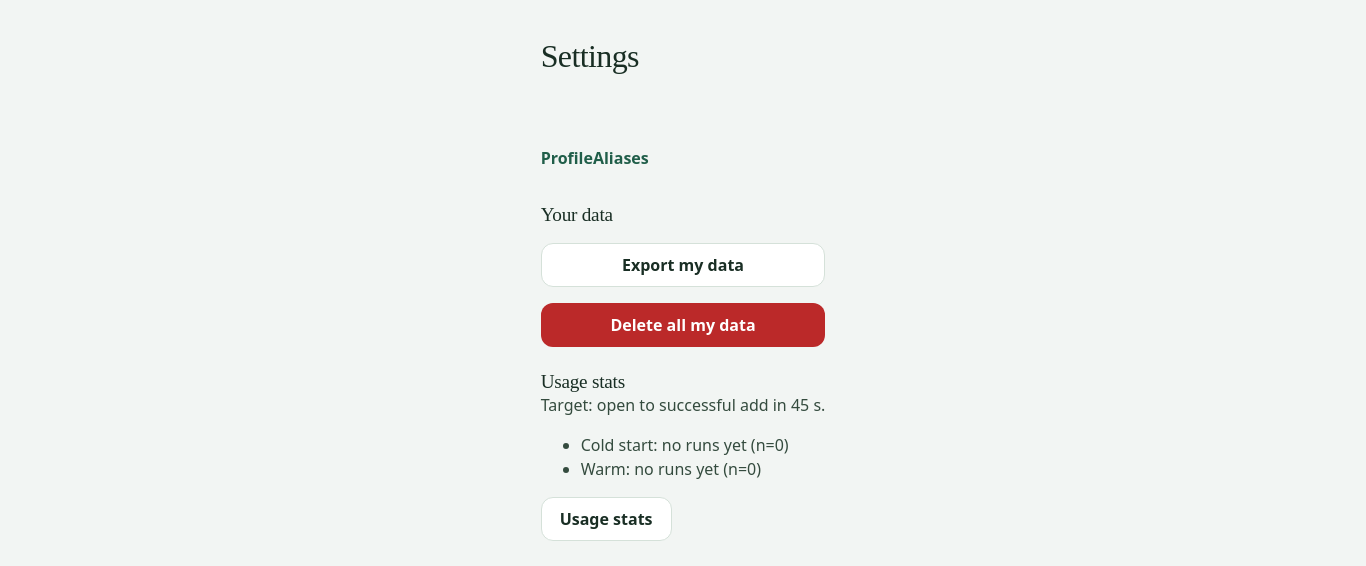
Scenario: settings page › delete_requires_typed_confirmation
The width and height of the screenshot is (1366, 566).
Click the button "Delete all my data" at (683,325), box x1=541 y1=303 x2=825 y2=347
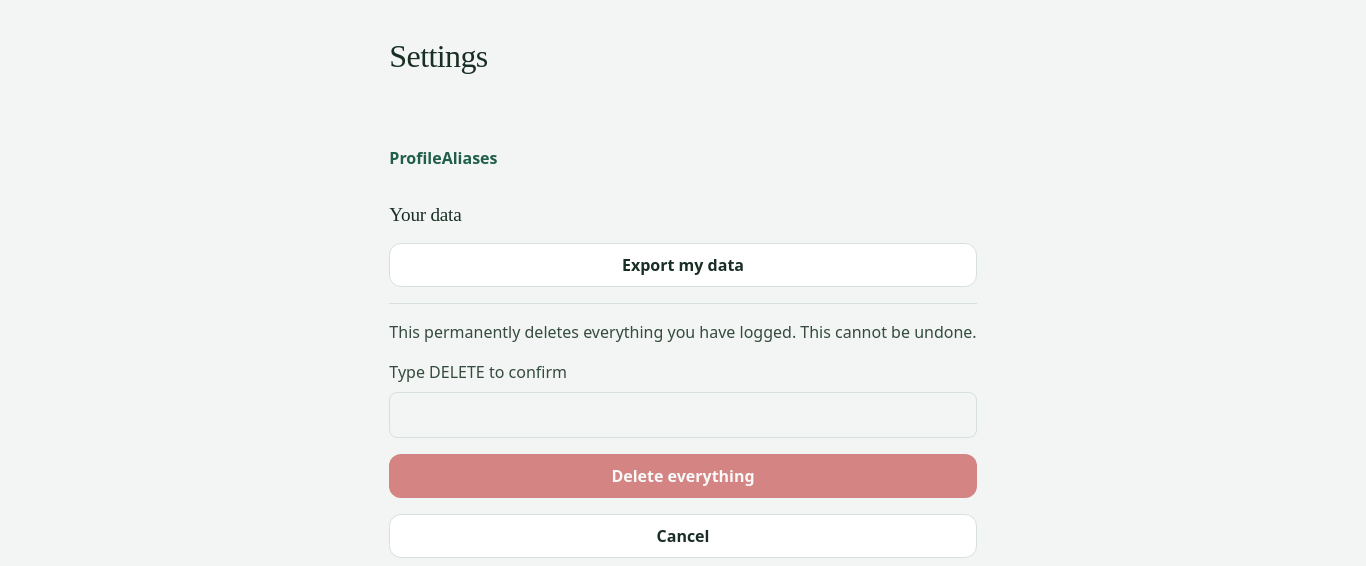
Now the button "Delete everything" is disabled, box x1=389 y1=454 x2=977 y2=498
Type "nope" into the field labelled "Type DELETE to confirm" at (683,415), box x1=389 y1=392 x2=977 y2=438
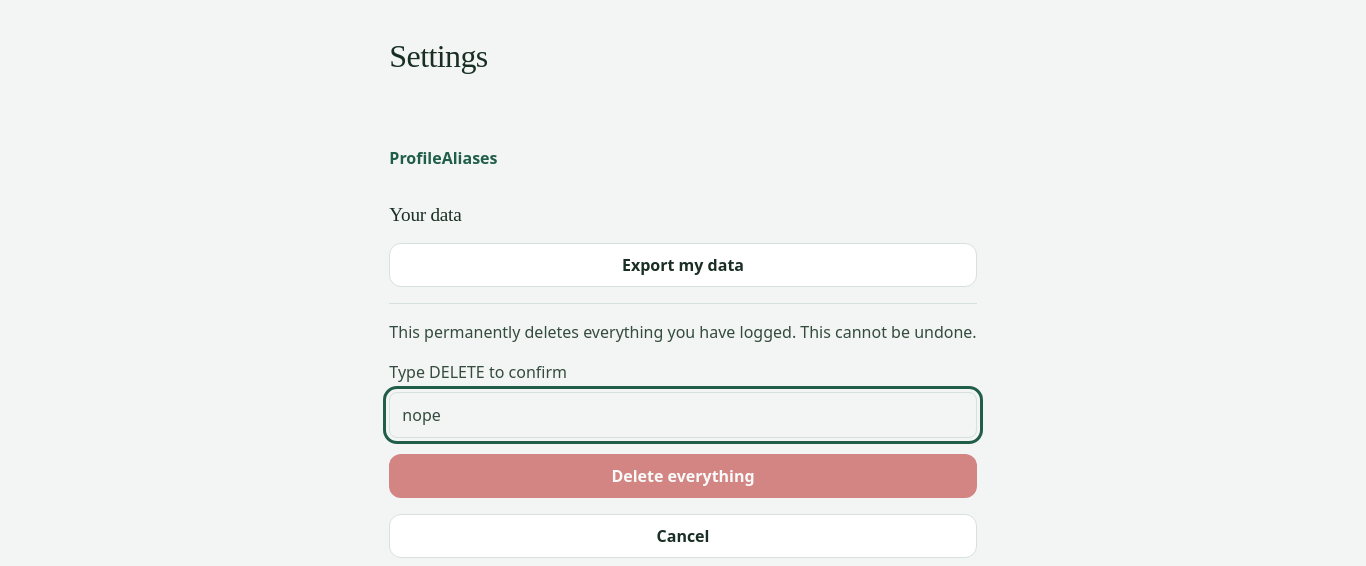
Now the button "Delete everything" is disabled, box x1=389 y1=454 x2=977 y2=498
Replace the text in the field labelled "Type DELETE to confirm" with "DELETE" at (683,415), box x1=389 y1=392 x2=977 y2=438
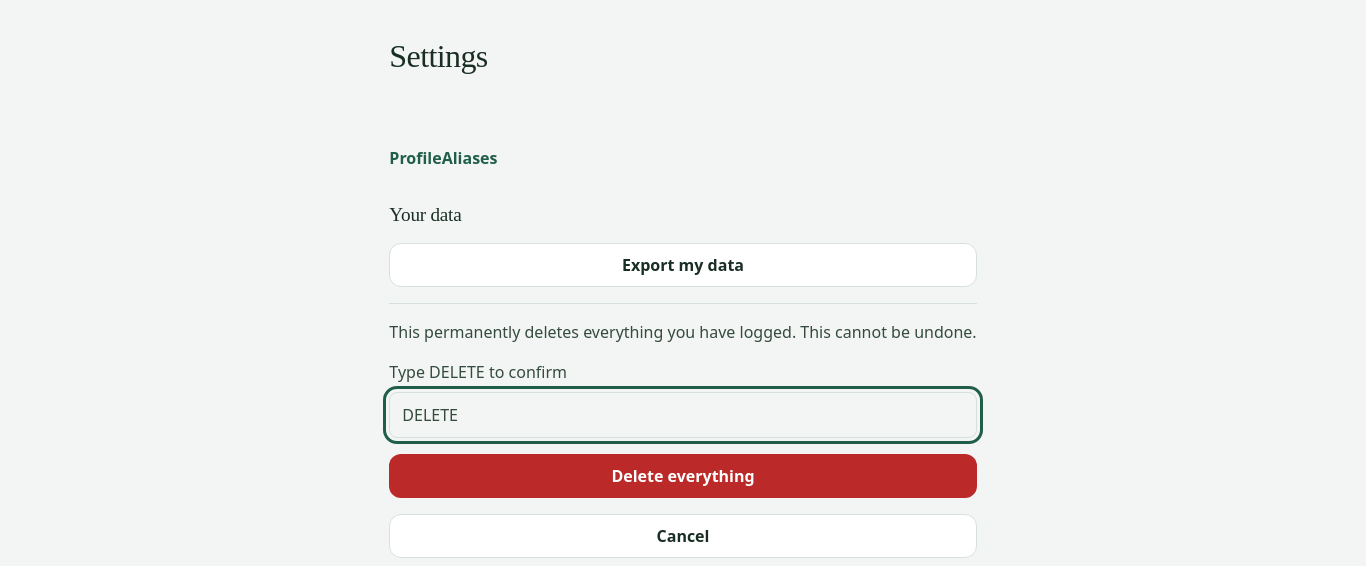
Now the button "Delete everything" is enabled
Click the button "Delete everything" at (683,476), box x1=389 y1=454 x2=977 y2=498
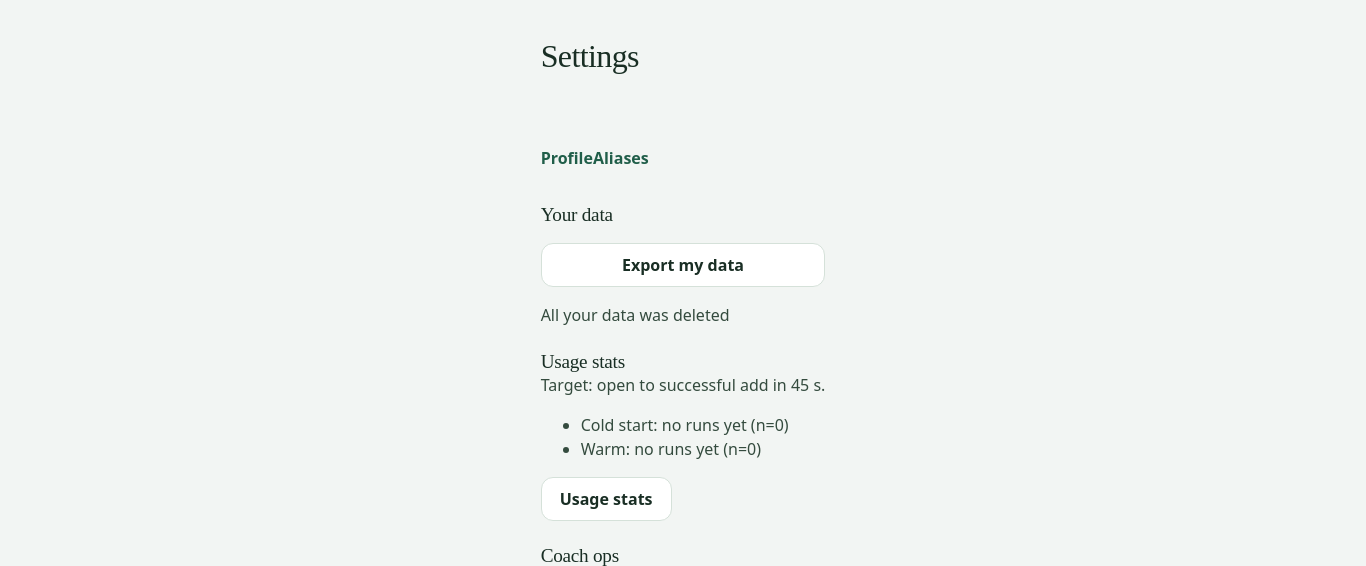
Now the text "All your data was deleted" is shown, box x1=541 y1=304 x2=730 y2=326
